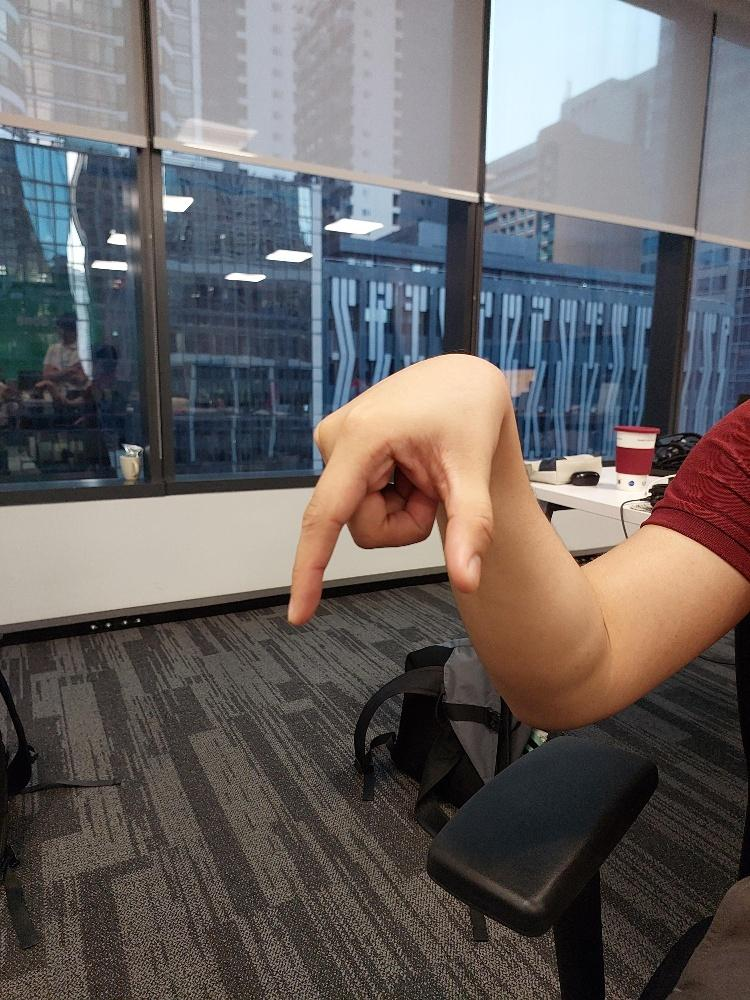q: (284, 349, 511, 629)
